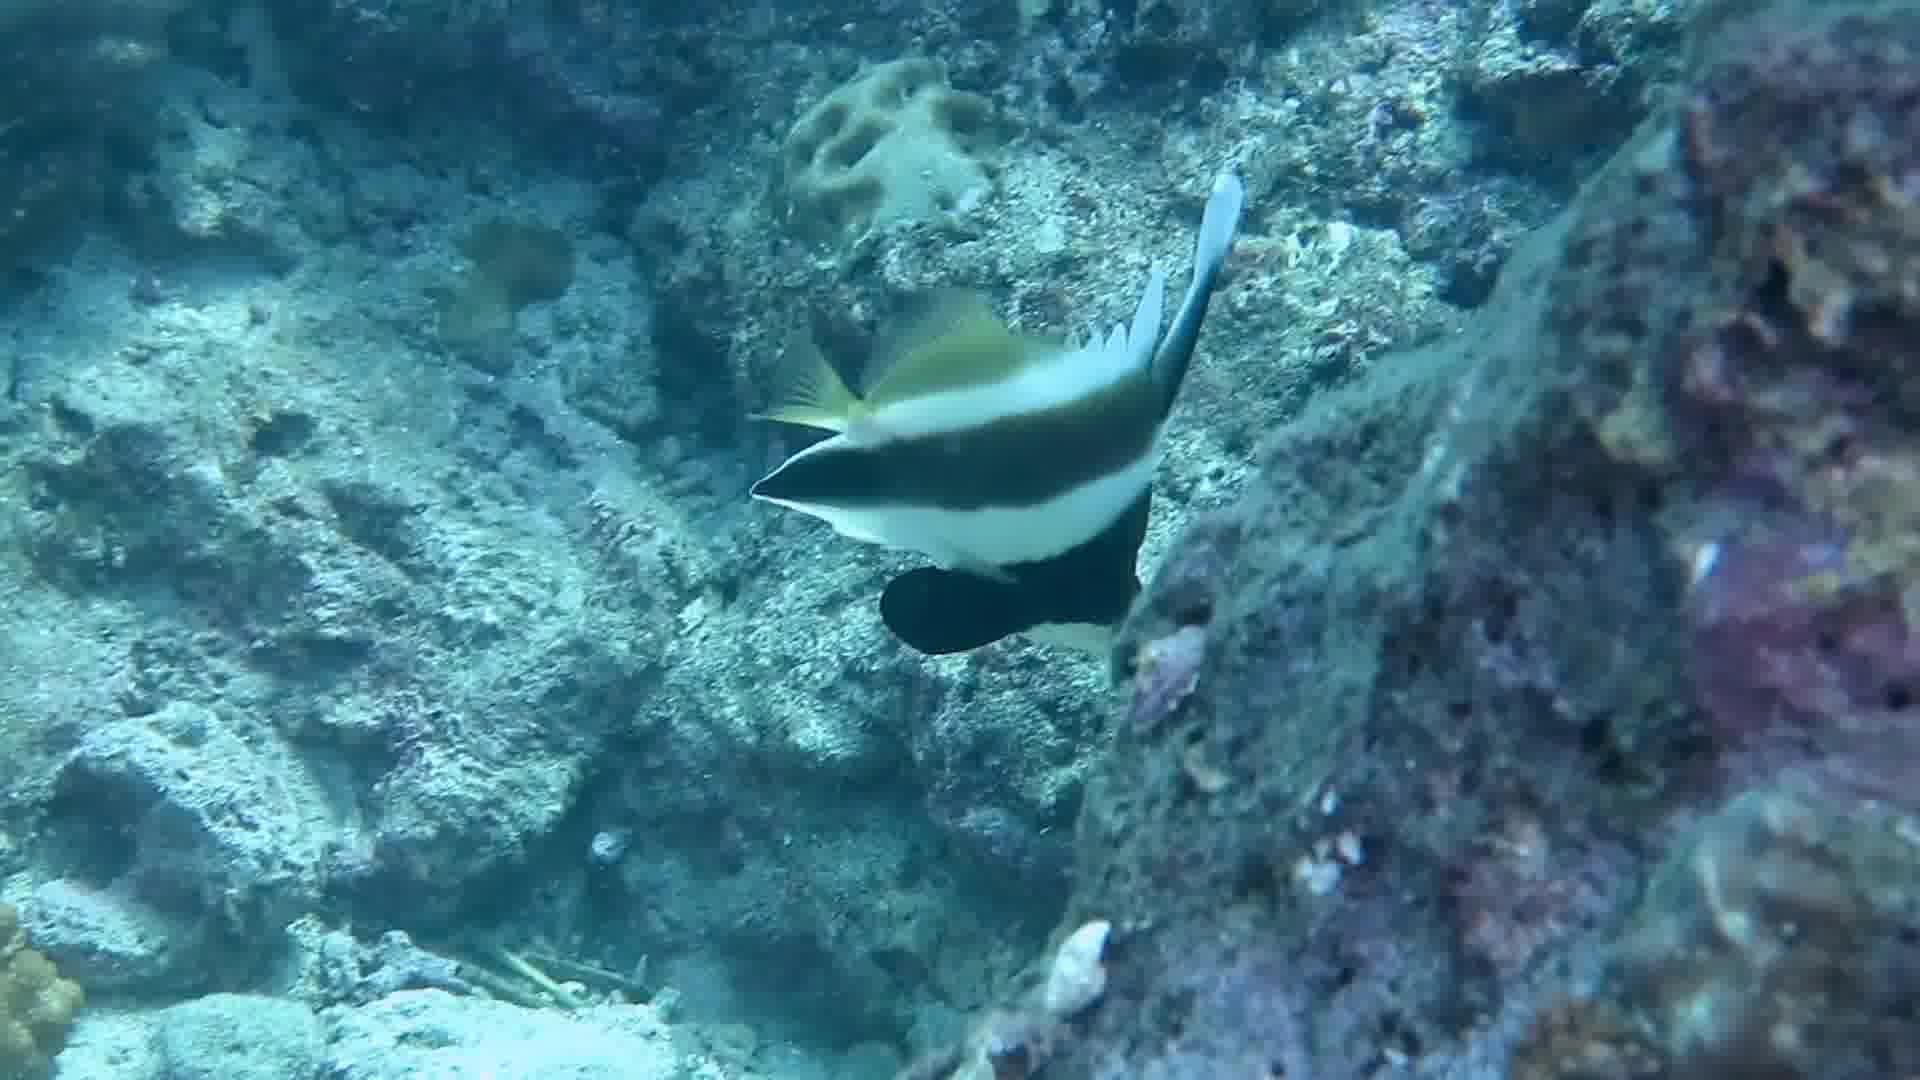Heniochus chrysostomus: (717, 1, 1295, 782)
